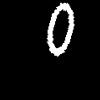chain: (47, 3, 73, 55)
